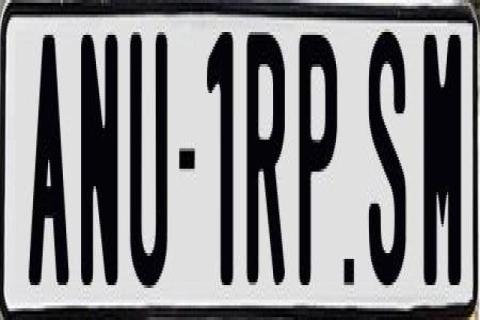0: (204, 24, 232, 294)
A: (29, 29, 75, 297)
M: (422, 32, 463, 296)
N: (80, 35, 120, 299)
P: (296, 32, 338, 282)
R: (245, 32, 288, 285)
S: (368, 32, 406, 302)
U: (131, 23, 171, 297)
